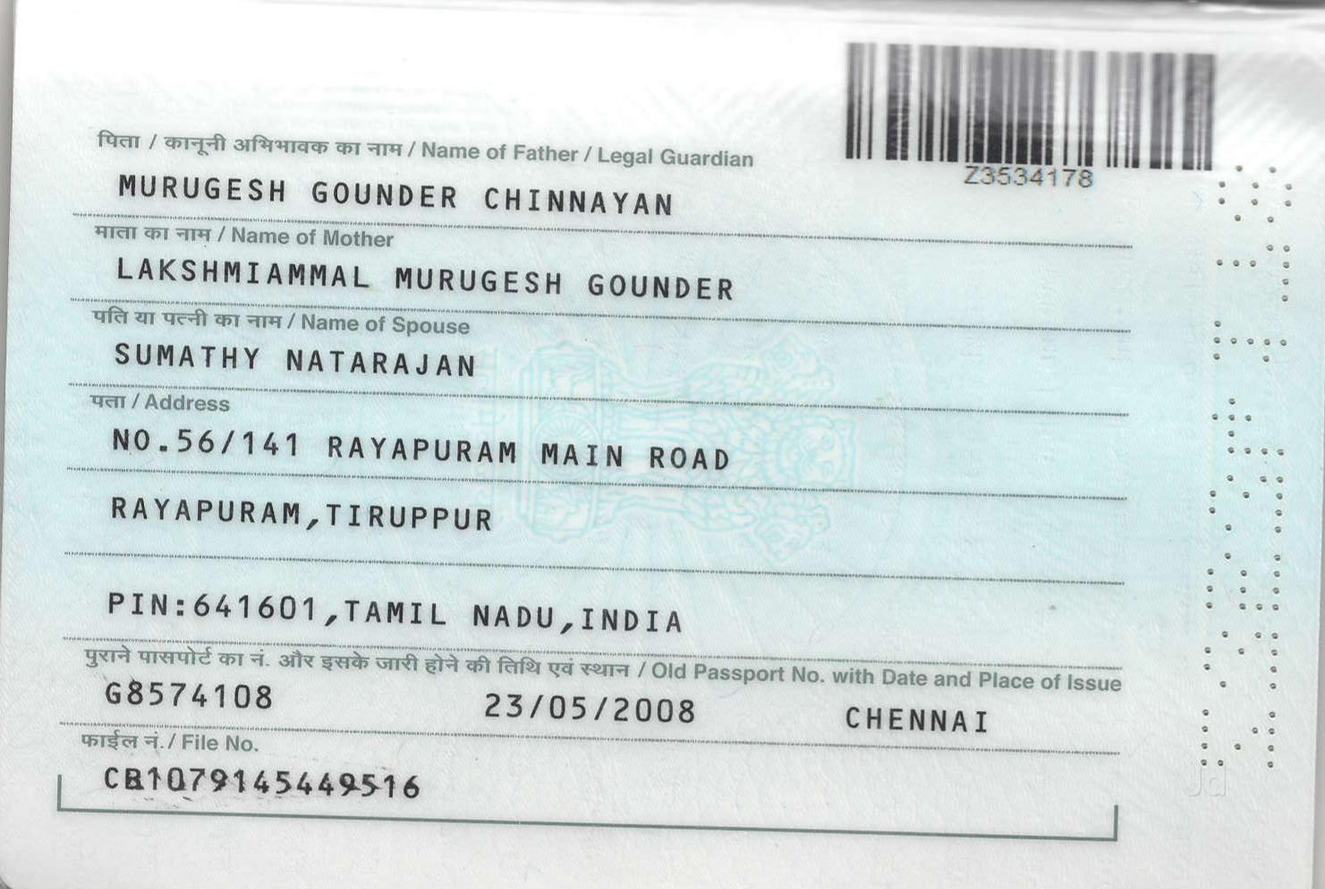File_no: (85, 759, 438, 817)
address: (74, 414, 740, 647)
father_name: (102, 159, 701, 225)
mother_name: (115, 245, 745, 312)
old_passport_details: (78, 668, 1043, 761)
passport_no: (937, 152, 1109, 206)
spouse_name: (102, 333, 491, 391)
